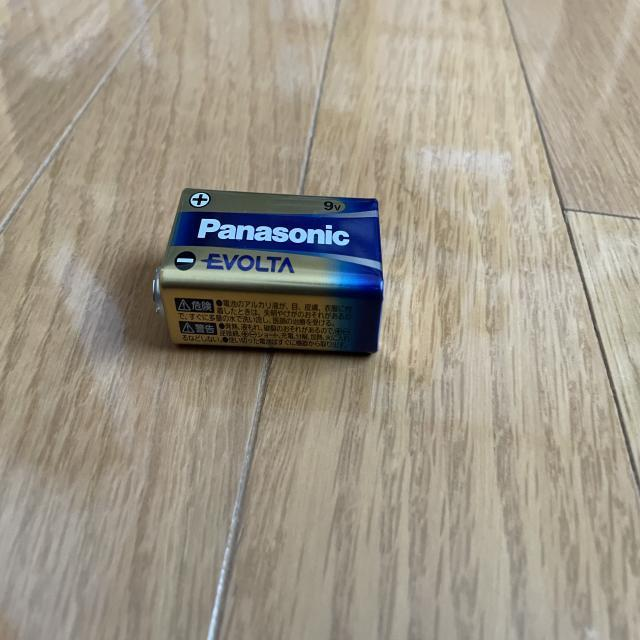9V: (152, 187, 385, 357)
